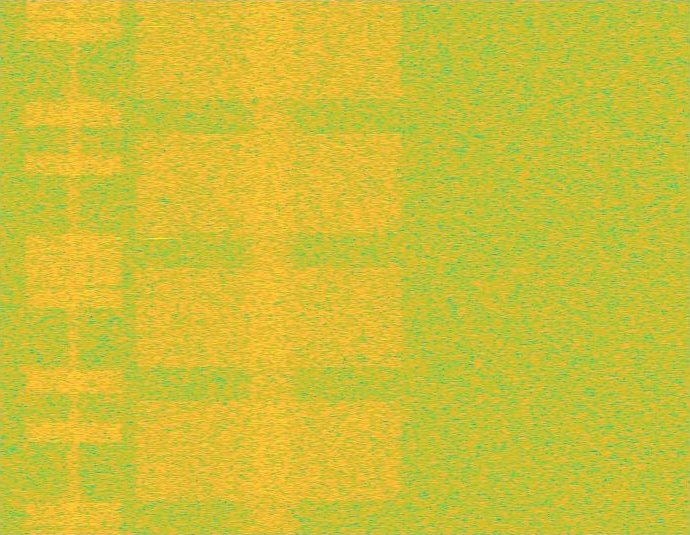5G: (131, 0, 407, 534)
DSSS: (238, 0, 300, 534), (67, 0, 81, 534)
LTE: (22, 0, 126, 534)
Radar: (151, 0, 165, 534)
